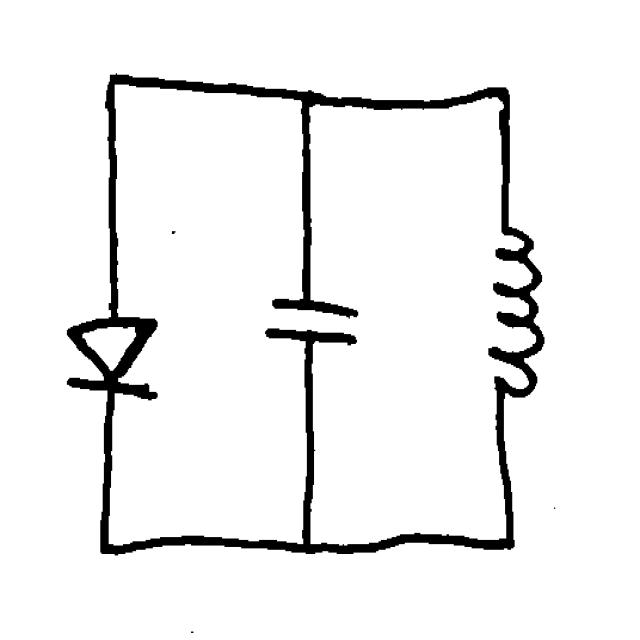capacitor: (250, 278, 368, 366)
diode: (48, 301, 169, 421)
inductor: (473, 212, 550, 418)
